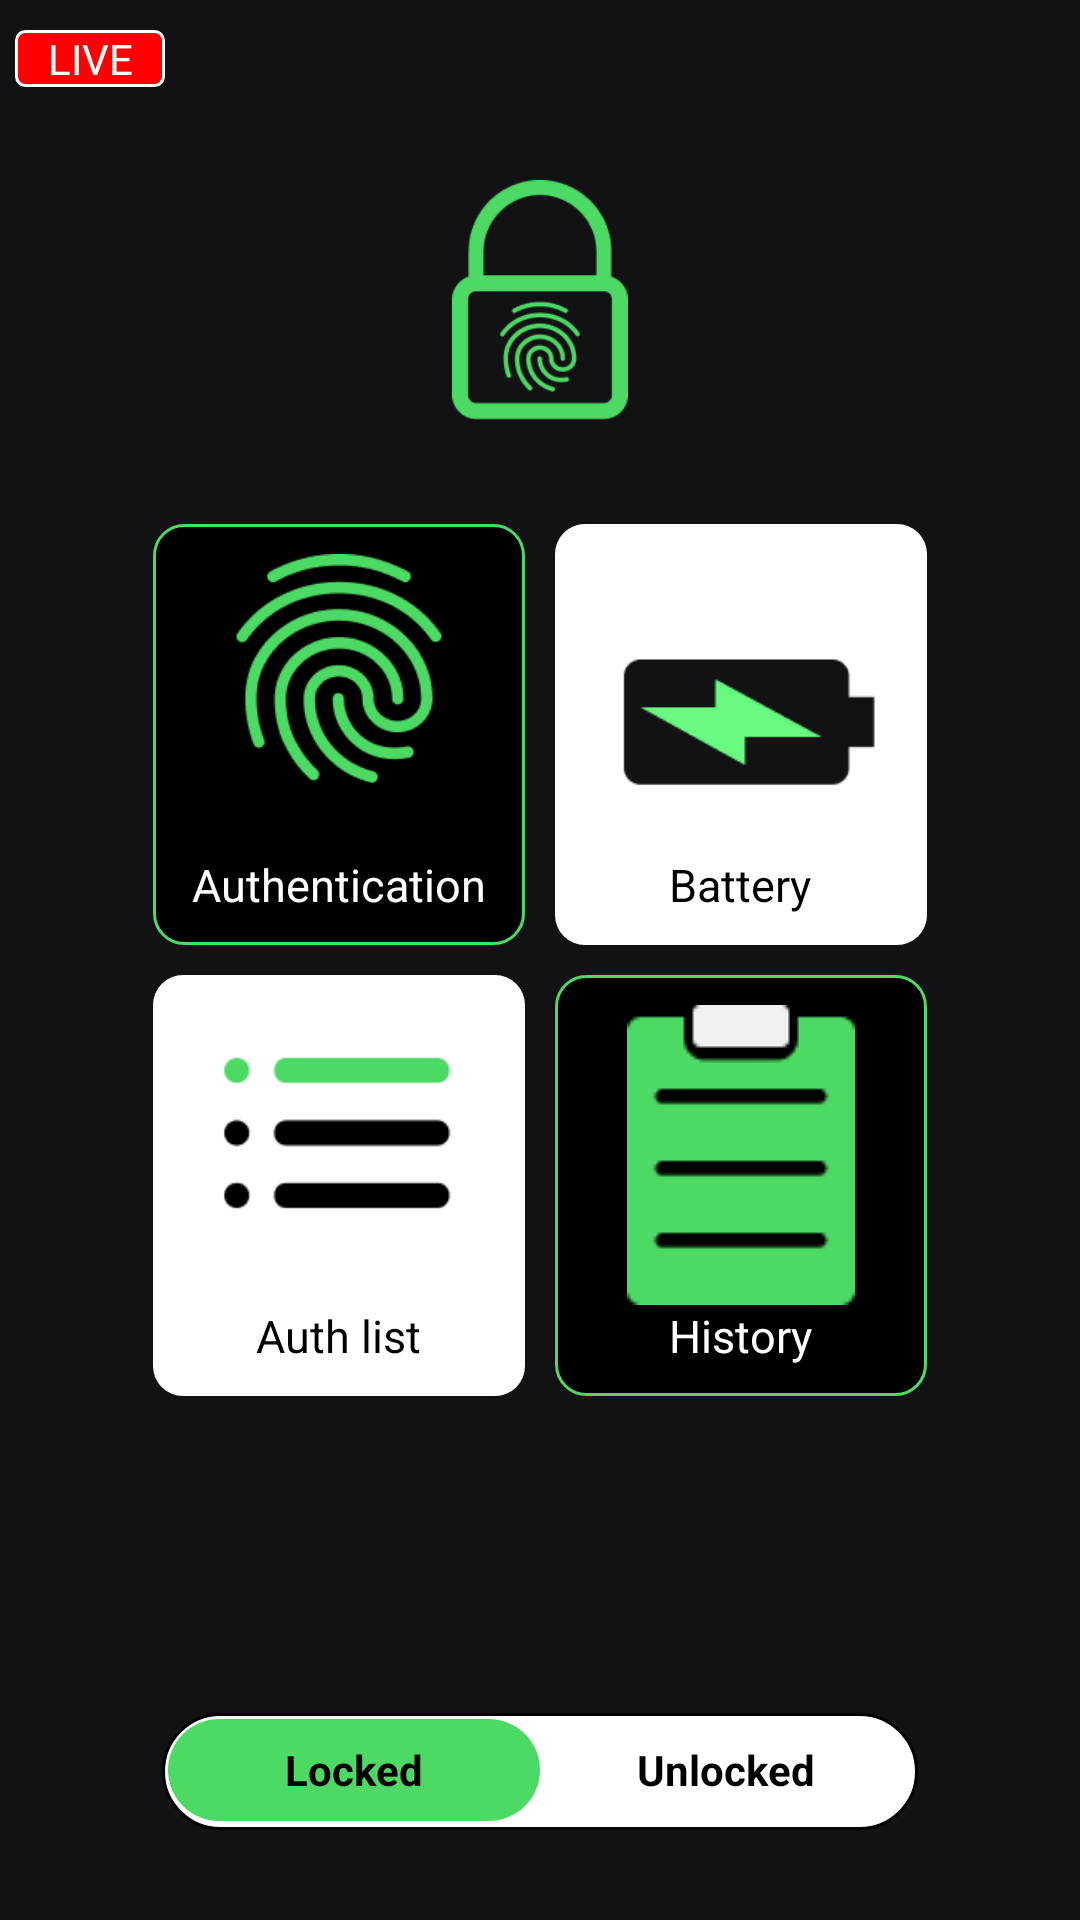

Where to tap for icons on this 1080px x 1920px app screen, as (x,y):
fingerprint: (339,668)
Smart Lock: (540,300)
